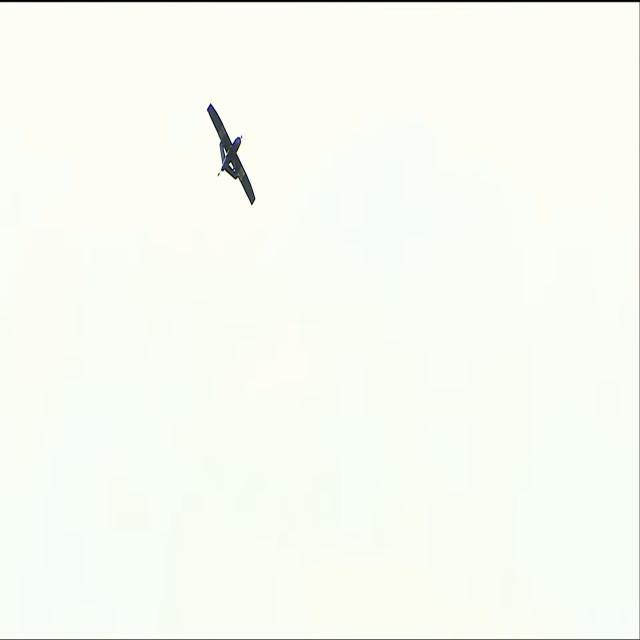iha: (205, 135, 257, 177)
